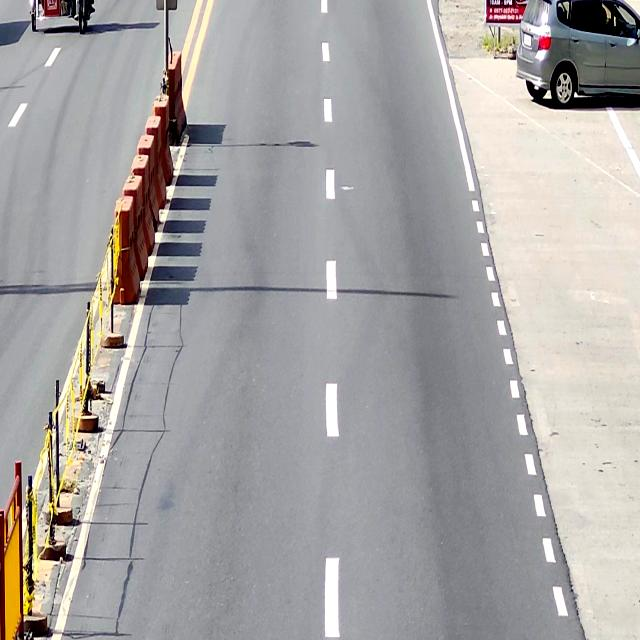Car: (515, 0, 639, 108)
Tricycle: (29, 0, 95, 34)
